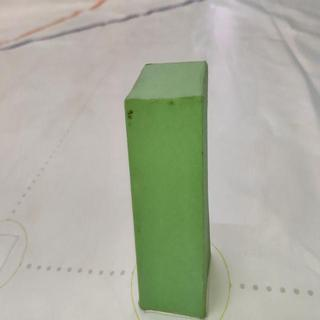greenbox: (123, 61, 209, 320)
